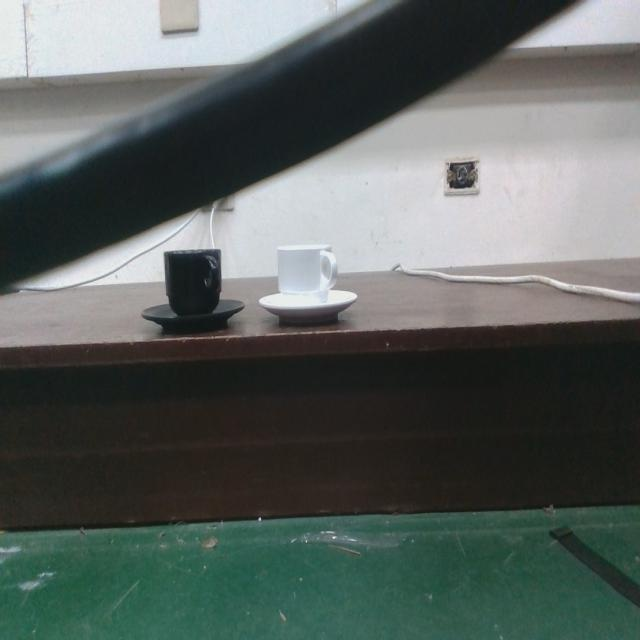black: (140, 244, 248, 337)
white: (258, 240, 358, 332)
